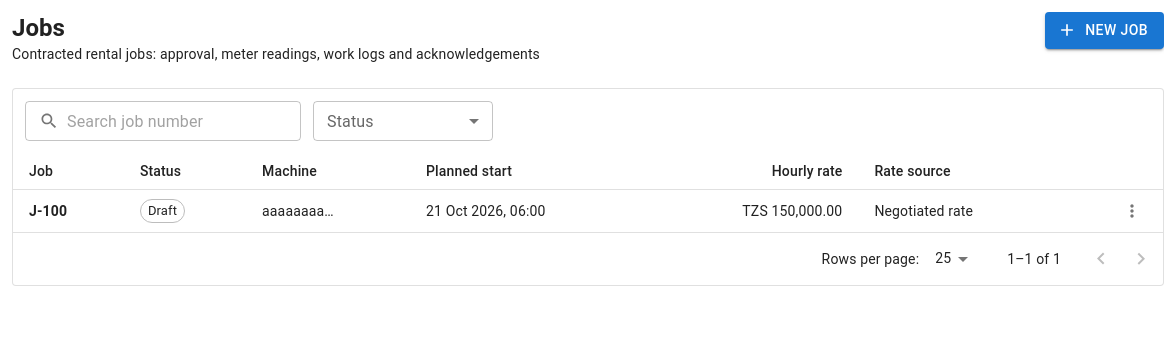
job edit gating › offers Edit on draft jobs with tenant.job.write
Click the button named "Actions for job J-100".
click(1132, 211)  # box [1117,196,1147,226]
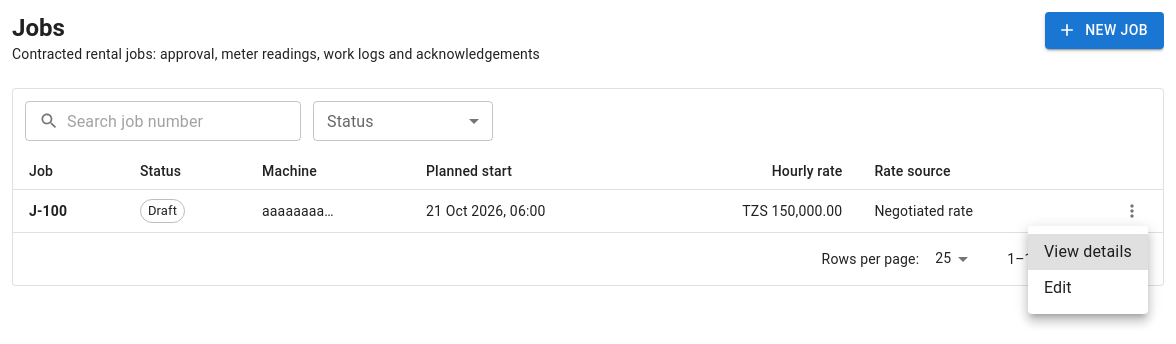
Now the menu item "Edit" is shown, box [1044,278,1072,297]
